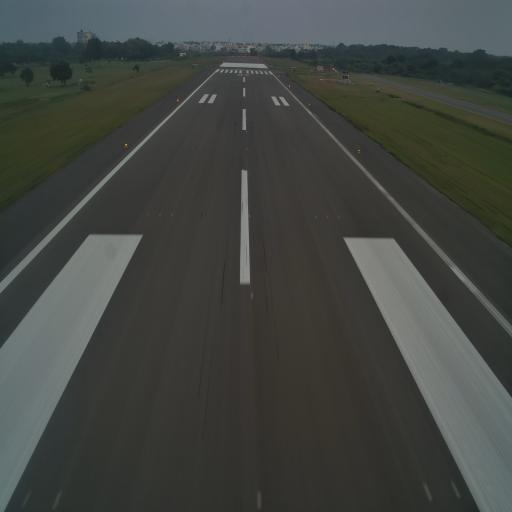off: (445, 477, 461, 503), (50, 487, 66, 512), (420, 478, 434, 506), (19, 488, 33, 512), (145, 210, 151, 218), (337, 214, 342, 221), (158, 210, 162, 218), (326, 214, 330, 222), (170, 212, 174, 218), (314, 214, 317, 222), (247, 171, 250, 177), (191, 145, 194, 150), (184, 146, 187, 150), (198, 146, 201, 150), (293, 149, 296, 153), (301, 148, 304, 152), (287, 148, 289, 153)
on: (249, 291, 255, 302), (247, 212, 252, 222), (124, 142, 128, 150), (357, 147, 361, 155), (245, 146, 248, 152)
